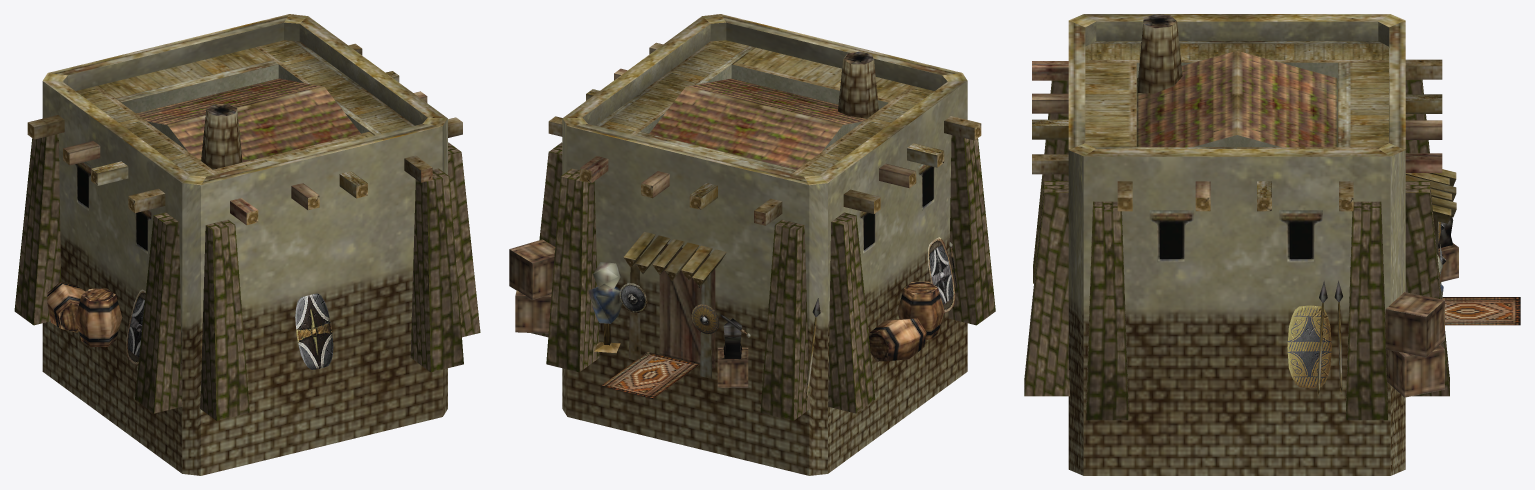
File: s_carthaginians_embassy_iberian.glb
3 views of the same model, side by side, from view 1: azimuth 30°, elevation 25°; view 2: azimuth 150°, elevation 25°; view 3: azimuth 270°, elevation 25° (orthographic). The views are drawn at different scales.
Visible parts, largest first — view 1: s_carthaginians_embassy_iberian_part0, s_carthaginians_embassy_iberian_part1; view 2: s_carthaginians_embassy_iberian_part0, s_carthaginians_embassy_iberian_part1; view 3: s_carthaginians_embassy_iberian_part0, s_carthaginians_embassy_iberian_part1.
Part boxes in pixels (box(x1,y1,x2,y2)): s_carthaginians_embassy_iberian_part0: box(14, 14, 480, 475); s_carthaginians_embassy_iberian_part1: box(126, 289, 333, 369); s_carthaginians_embassy_iberian_part0: box(509, 14, 995, 475); s_carthaginians_embassy_iberian_part1: box(619, 237, 955, 334); s_carthaginians_embassy_iberian_part0: box(1024, 14, 1520, 475); s_carthaginians_embassy_iberian_part1: box(1287, 221, 1446, 388).
Bounding box in the file's own units: 3.08 × 2.74 × 3.5.
2 materials, 2 textured.
